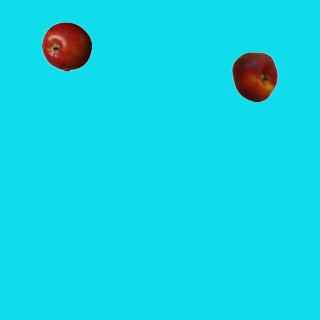Apple Braeburn: (41, 21, 91, 71)
Nectarine Flat: (229, 51, 279, 101)
